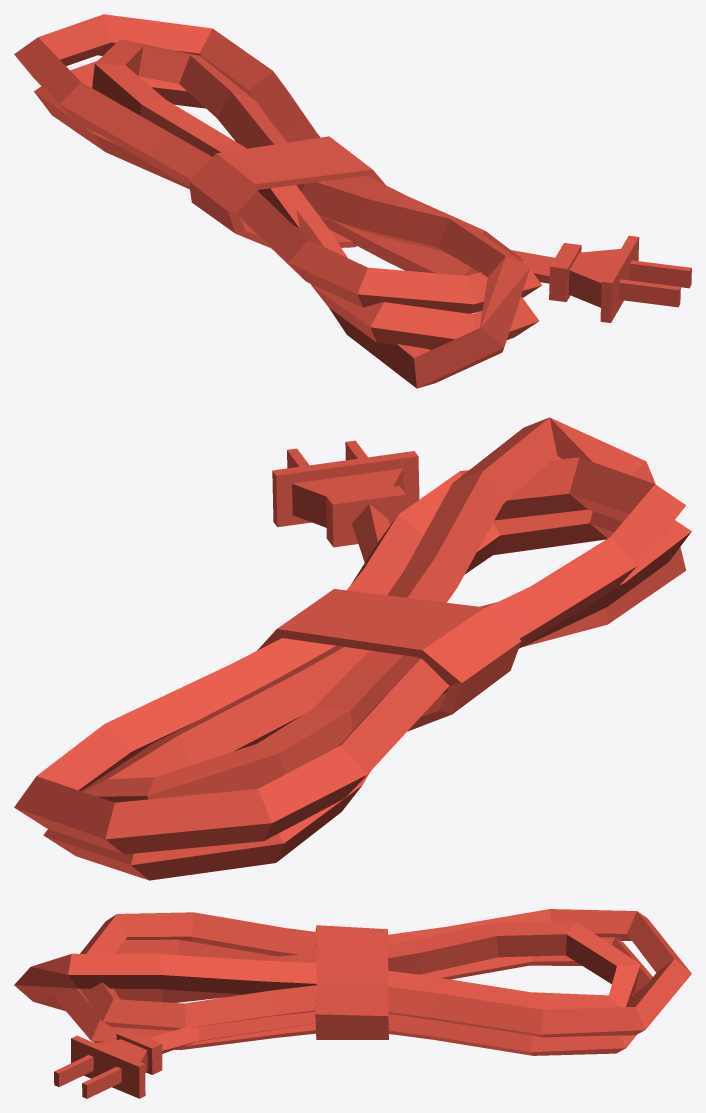
File: SM_Cable_Electric_Stranded_B.fbx
3 renders of one model, top to bottom at view 1: azimuth 30°, elevation 25°; view 2: azimuth 150°, elevation 25°; view 3: azimuth 270°, elevation 25°, orthographic. The views are drawn at different scales.
Parts seen in each view (by area): view 1: SM_Cable_Electric_Stranded_B; view 2: SM_Cable_Electric_Stranded_B; view 3: SM_Cable_Electric_Stranded_B.
Part boxes in pixels (bbox=[...]): SM_Cable_Electric_Stranded_B: bbox=[14, 14, 691, 388]; SM_Cable_Electric_Stranded_B: bbox=[14, 417, 691, 880]; SM_Cable_Electric_Stranded_B: bbox=[14, 909, 691, 1098].
Size of the model in its own units: 34.2 by 16.46 by 4.83.
